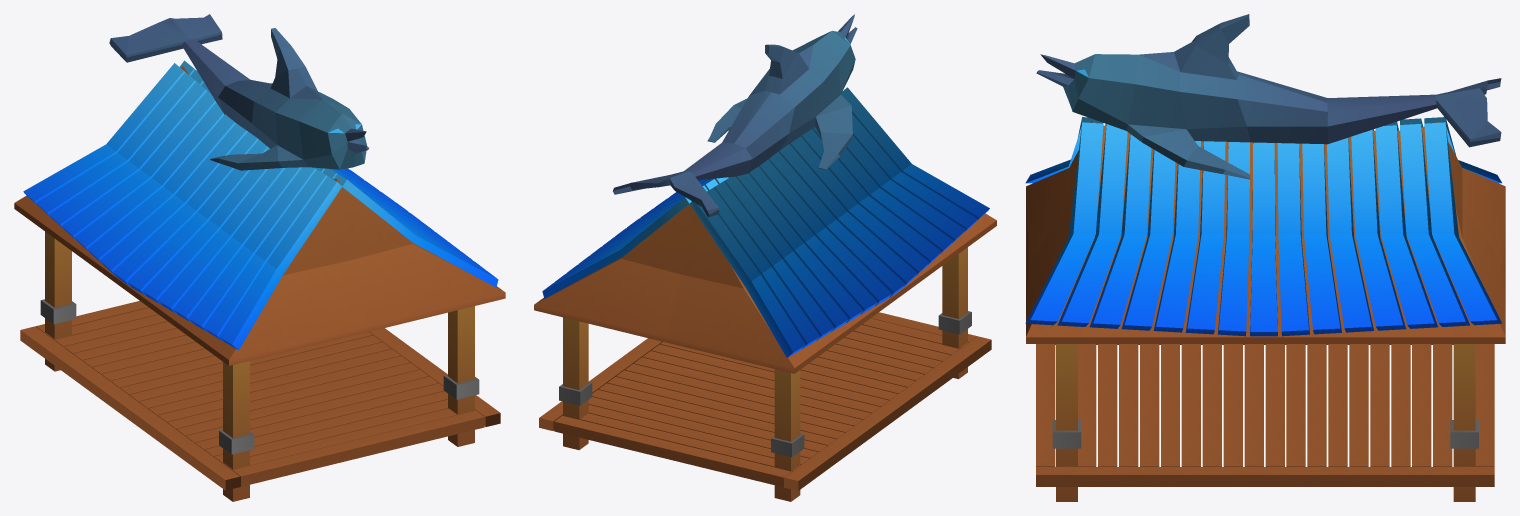
Rendered from Dragon_Palace.fbx.
3 renders of one model, left to right at view 1: azimuth 30°, elevation 25°; view 2: azimuth 150°, elevation 25°; view 3: azimuth 270°, elevation 25°, orthographic. The views are drawn at different scales.
Parts seen in each view (by area): view 1: Dragon_Palace; view 2: Dragon_Palace; view 3: Dragon_Palace.
Part boxes in pixels (left/top/right/bottom): Dragon_Palace: left=14, top=14, right=505, bottom=501; Dragon_Palace: left=534, top=14, right=996, bottom=501; Dragon_Palace: left=1025, top=14, right=1505, bottom=501.
Bounding box in the file's own units: 954 × 1221 × 1252.
1 material, 1 textured.
